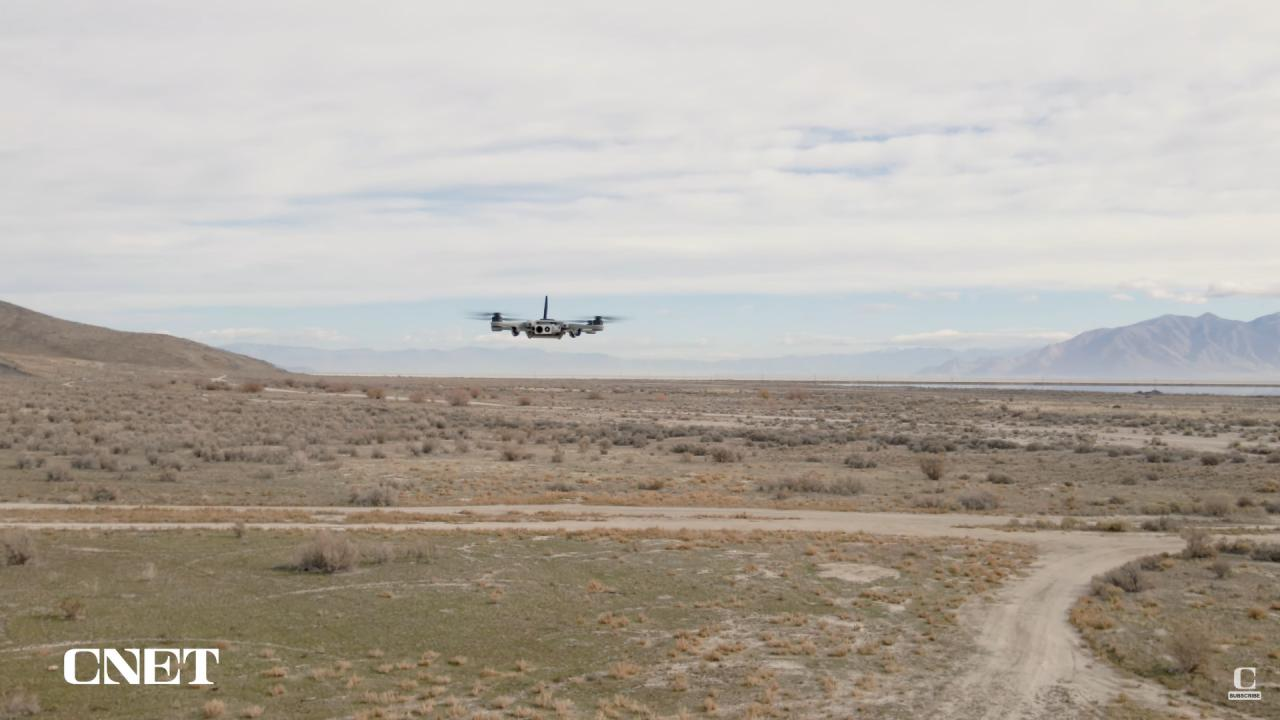Drone: (454, 282, 640, 354)
